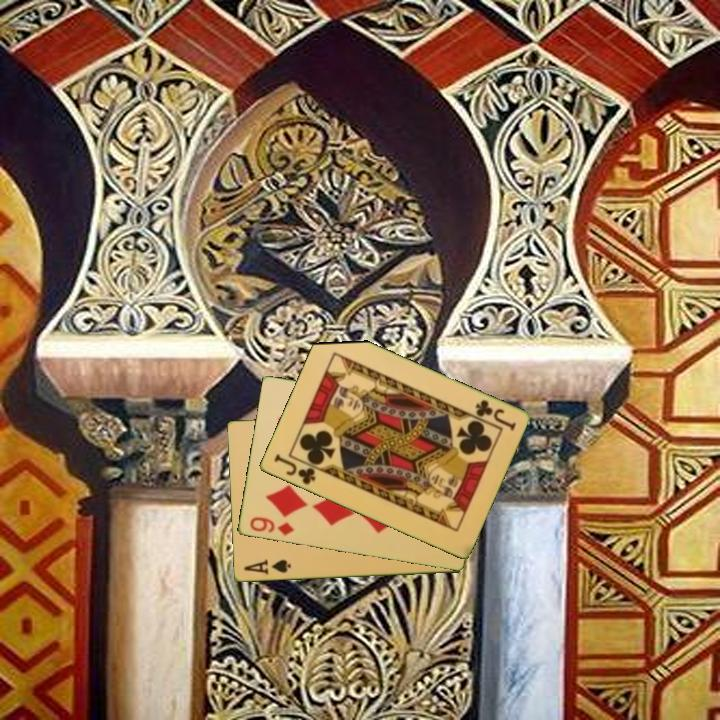9d: (246, 514, 296, 539)
As: (240, 556, 293, 578)
Jc: (270, 451, 318, 488), (471, 396, 519, 433)
